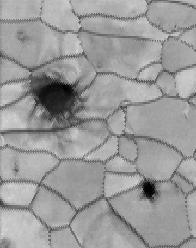good_void: (28, 71, 85, 149), (135, 174, 161, 203), (13, 28, 36, 46), (11, 162, 22, 177), (0, 237, 12, 248), (118, 104, 129, 112)
